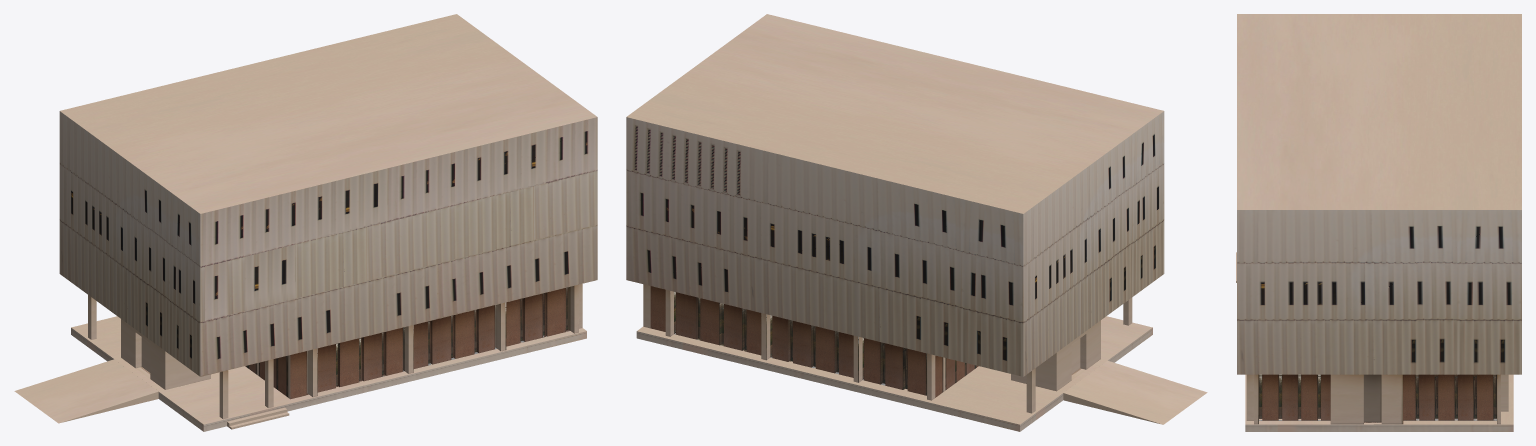
Rendered from Stauffer_A.FBX.
The picture shows the model from 3 angles, left to right: view 1: azimuth 30°, elevation 25°; view 2: azimuth 150°, elevation 25°; view 3: azimuth 270°, elevation 25°; orthographic projection.
Parts seen in each view (by area): view 1: Box004, Box002, Box001, Box010, Box003; view 2: Box004, Box002, Box001, Box010, Box003; view 3: Box004, Box002, Box001.
Part boxes in pixels (x1=…): Box004: x1=59, y1=14, x2=597, y2=376; Box002: x1=245, y1=284, x2=582, y2=399; Box001: x1=71, y1=316, x2=586, y2=431; Box010: x1=14, y1=359, x2=158, y2=423; Box003: x1=121, y1=319, x2=210, y2=389; Box004: x1=626, y1=14, x2=1164, y2=376; Box002: x1=643, y1=284, x2=978, y2=400; Box001: x1=636, y1=316, x2=1152, y2=431; Box010: x1=1063, y1=360, x2=1207, y2=424; Box003: x1=1011, y1=320, x2=1100, y2=391; Box004: x1=1237, y1=14, x2=1521, y2=374; Box002: x1=1246, y1=374, x2=1508, y2=424; Box001: x1=1245, y1=374, x2=1513, y2=431.
Bounding box in the file's own units: 141 × 61.13 × 70.26.
